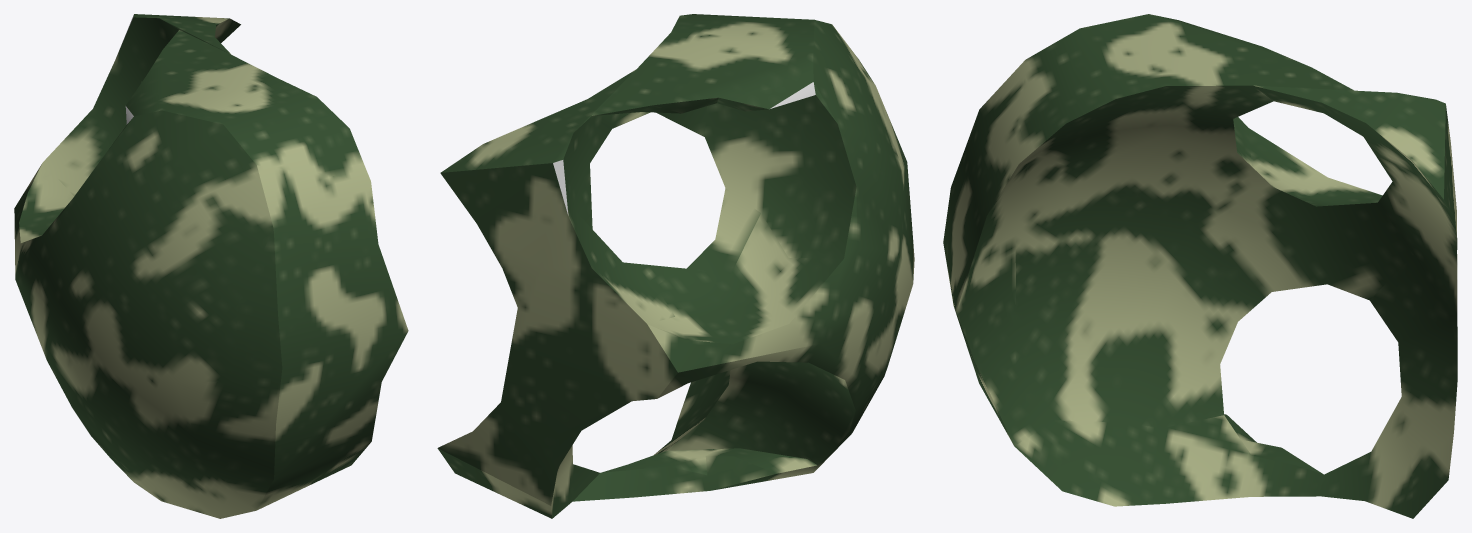
File: link_body_15.obj
3 views of the same model, side by side, from view 1: azimuth 30°, elevation 25°; view 2: azimuth 150°, elevation 25°; view 3: azimuth 270°, elevation 25° (orthographic). The views are drawn at different scales.
Visible parts, largest first — view 1: link_body_15; view 2: link_body_15; view 3: link_body_15.
Boxes of the visible parts, <box> form: link_body_15: <box>14,14,408,518</box>; link_body_15: <box>437,14,914,518</box>; link_body_15: <box>943,14,1457,518</box>.
Size of the model in its own units: 8.76 by 11 by 11.86.
